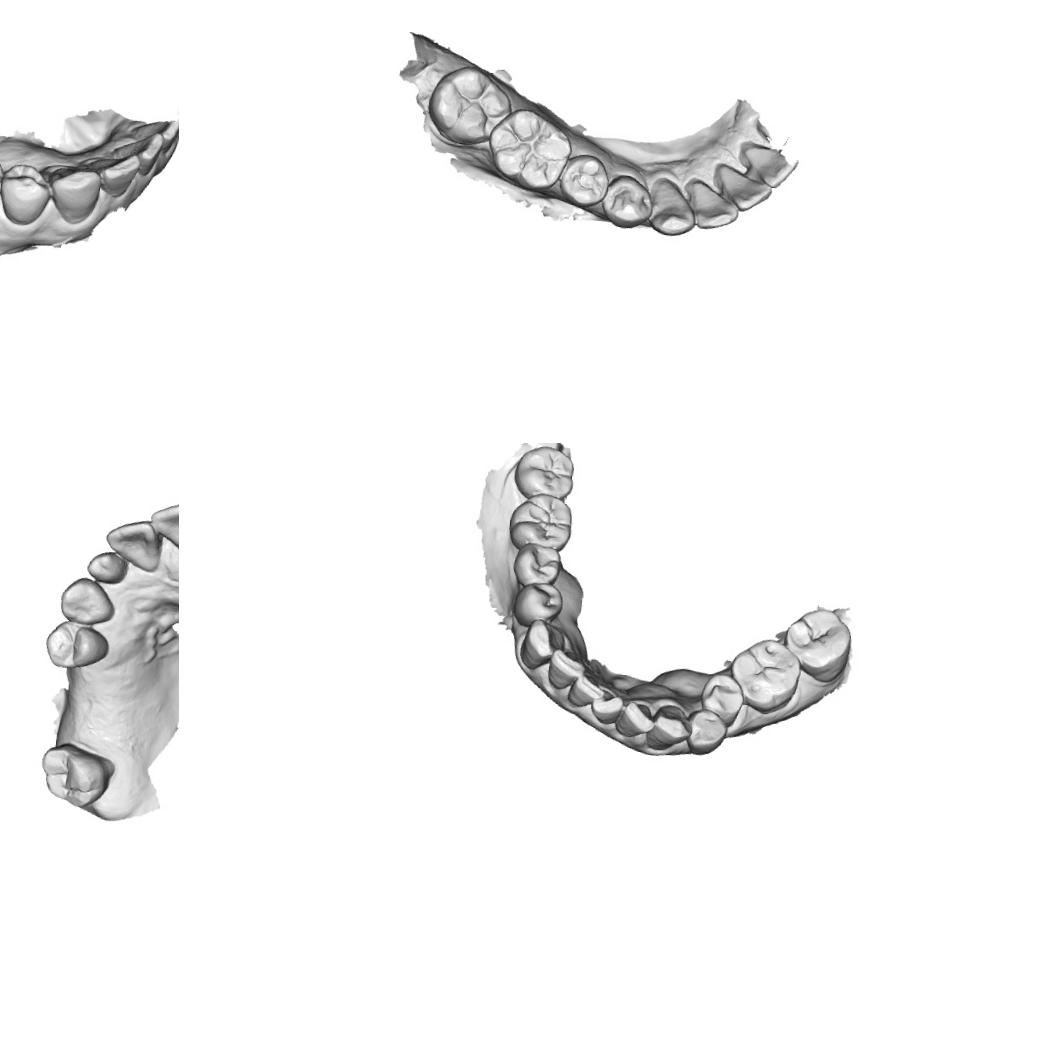canine: (47, 160, 104, 229), (645, 175, 701, 240), (57, 574, 118, 628), (518, 617, 568, 673), (644, 700, 695, 754)
incisor: (679, 174, 743, 235), (102, 514, 166, 574), (710, 161, 776, 216), (735, 144, 798, 193), (110, 125, 164, 176), (92, 150, 140, 202), (145, 496, 179, 559), (612, 700, 658, 740), (546, 647, 586, 691), (85, 548, 130, 586), (588, 684, 626, 728), (124, 112, 179, 142), (565, 670, 606, 710)
molar: (484, 102, 578, 195), (424, 60, 518, 152), (725, 635, 804, 717), (779, 605, 855, 685), (36, 740, 118, 810), (506, 489, 575, 557), (511, 443, 577, 504)
premolar: (0, 159, 56, 229), (43, 618, 112, 672), (598, 170, 657, 233), (555, 150, 614, 212), (511, 579, 566, 632), (697, 671, 746, 729), (510, 540, 562, 591), (682, 706, 729, 758)
